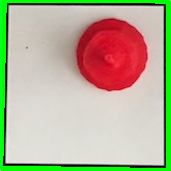Red King: (72, 13, 152, 96)
